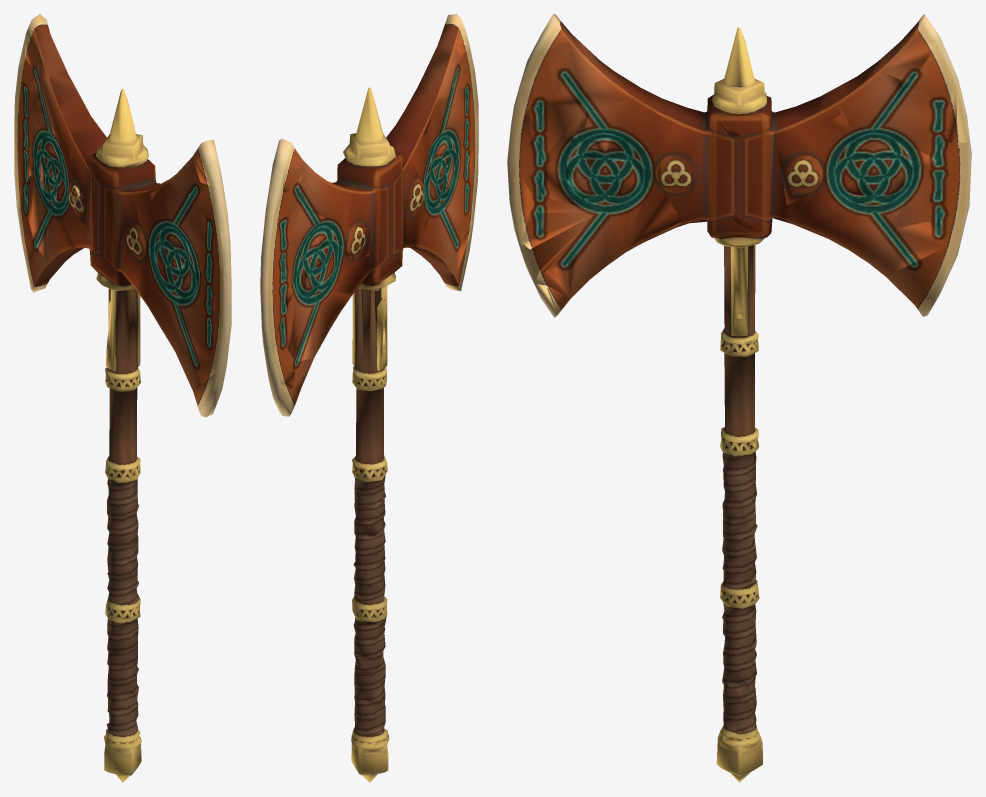
Rendered from weapon_copperax.glb.
3 views of the same model, side by side, from view 1: azimuth 30°, elevation 25°; view 2: azimuth 150°, elevation 25°; view 3: azimuth 270°, elevation 25° (orthographic). The views are drawn at different scales.
Visible parts, largest first — view 1: weapon_copperax; view 2: weapon_copperax; view 3: weapon_copperax.
Part boxes in pixels (x1,y1,x2,y2): weapon_copperax: (14, 14, 231, 782); weapon_copperax: (260, 14, 478, 782); weapon_copperax: (507, 14, 971, 782).
Bounding box in the file's own units: 0.0915 × 1.32 × 0.7212.
Materials: 1 (1 with a texture image).
